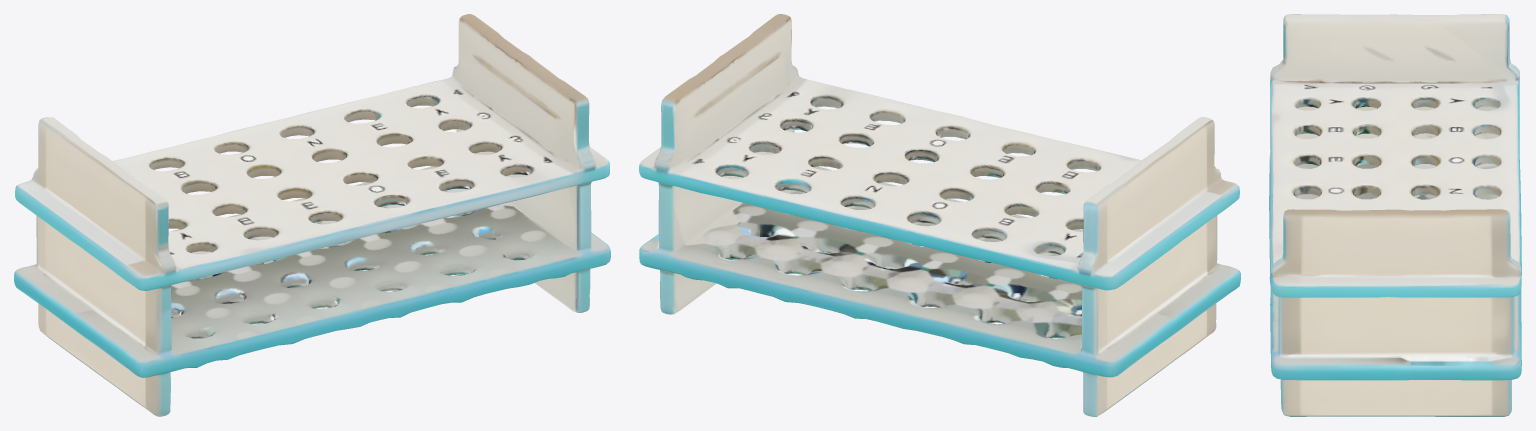
Rendered from base_basic_shaded.fbx.
The picture shows the model from 3 angles, left to right: view 1: azimuth 30°, elevation 25°; view 2: azimuth 150°, elevation 25°; view 3: azimuth 270°, elevation 25°; orthographic projection. The views are drawn at different scales.
Visible parts, largest first — view 1: model; view 2: model; view 3: model.
Part boxes in pixels (x1,y1,x2,y2): model: (14, 14, 610, 416); model: (639, 14, 1240, 416); model: (1269, 14, 1521, 416).
Size of the model in its own units: 191 by 82.05 by 92.11.
